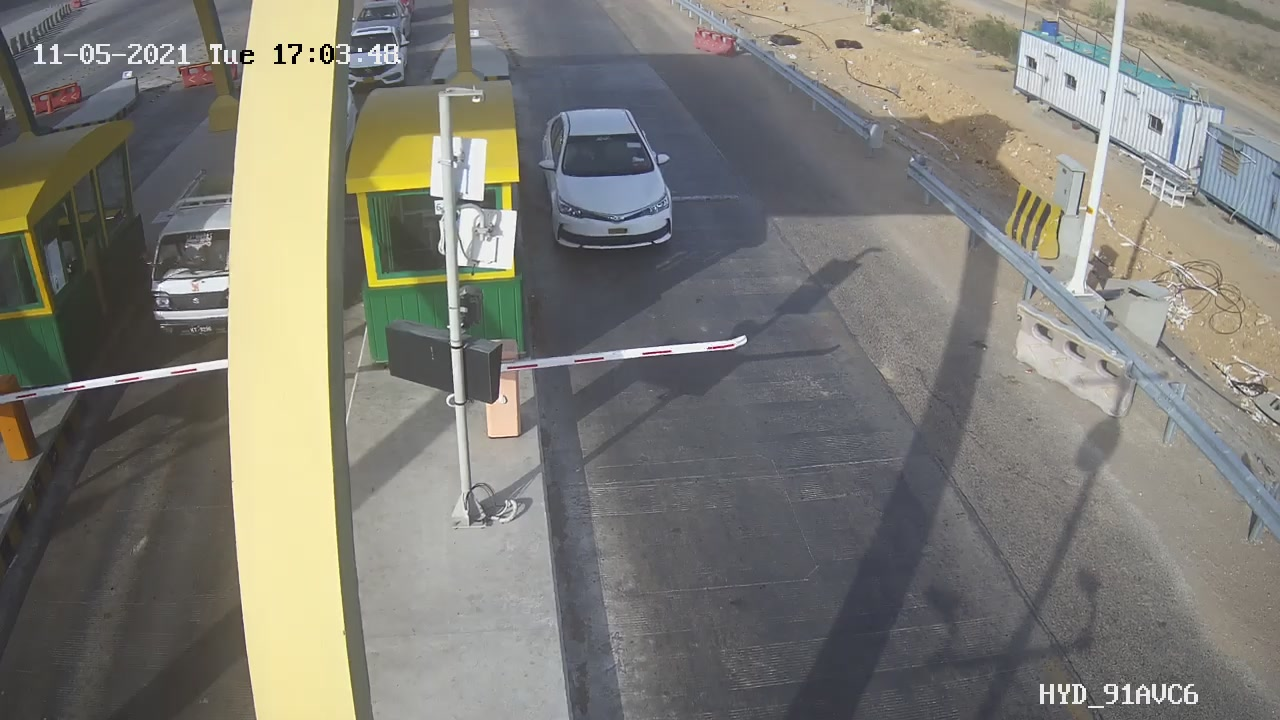F1: (526, 100, 695, 261)
